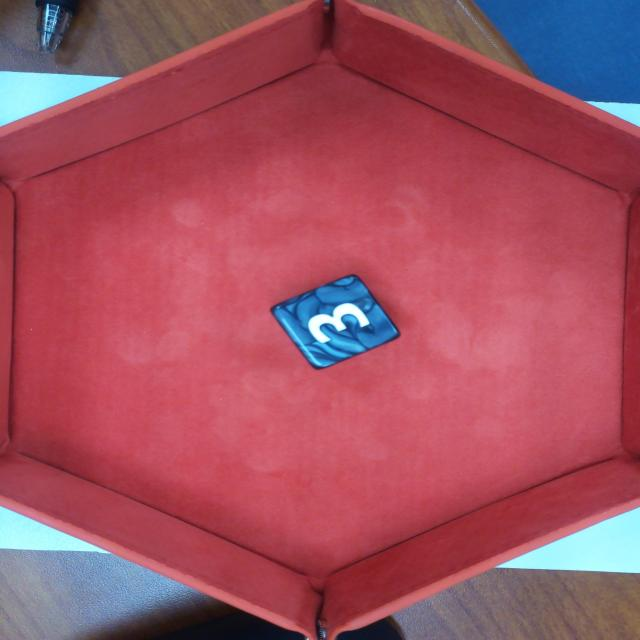dice: (276, 275, 400, 364)
